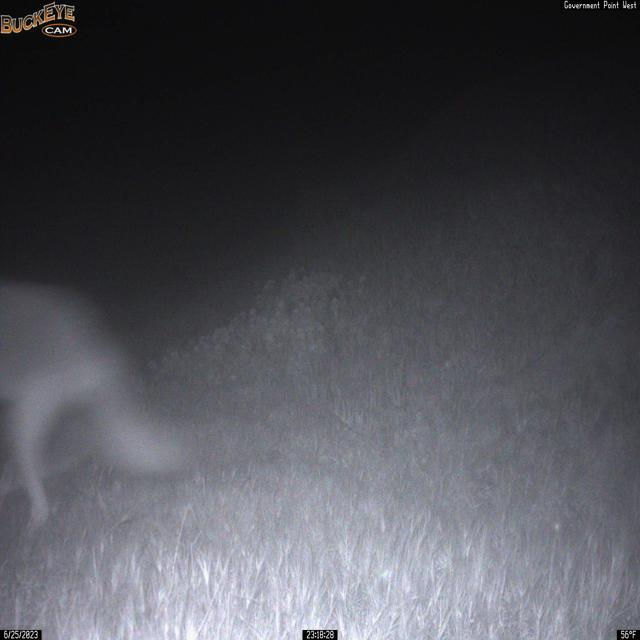coyote: (0, 277, 194, 562)
